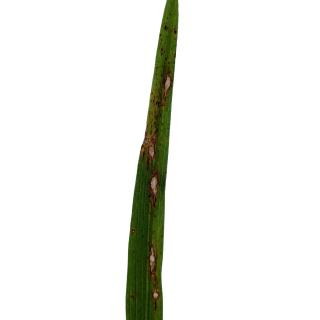Blast: (145, 243, 161, 308), (140, 131, 161, 164), (147, 168, 160, 213), (162, 67, 173, 103)
